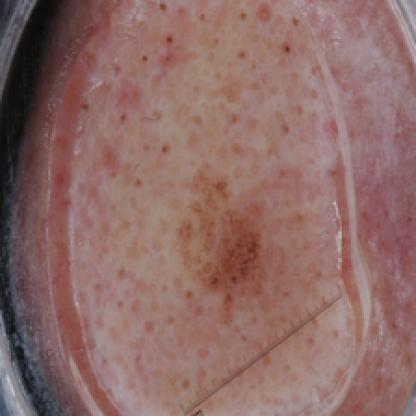malignant: (52, 17, 405, 410)
